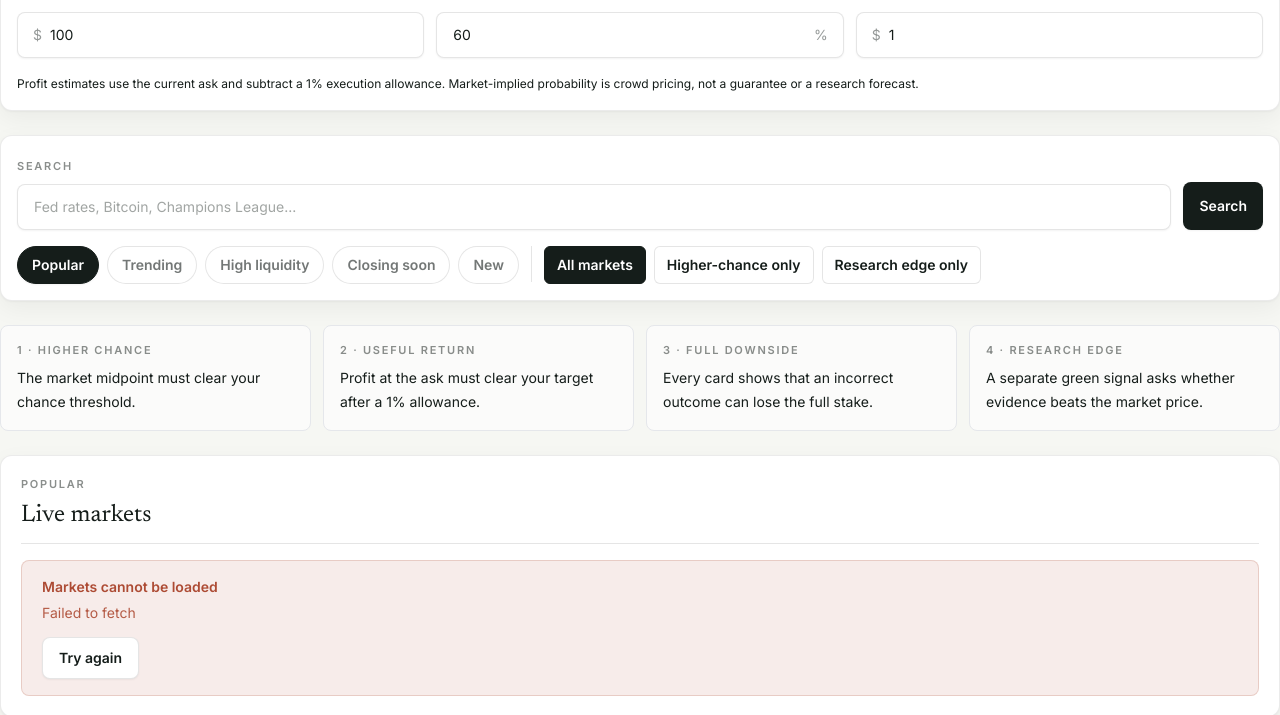
Test: MarketBrowserClient › shows a retryable error state, never the empty-state copy, when loading fails
(page scrolled)
Expected: the text "Markets cannot be loaded" is shown, [42,578,218,594]
Expected: the text "Failed to fetch" is shown, [42,604,136,620]
Click the button "Try again".
click(91, 658)  # box [42,636,139,678]
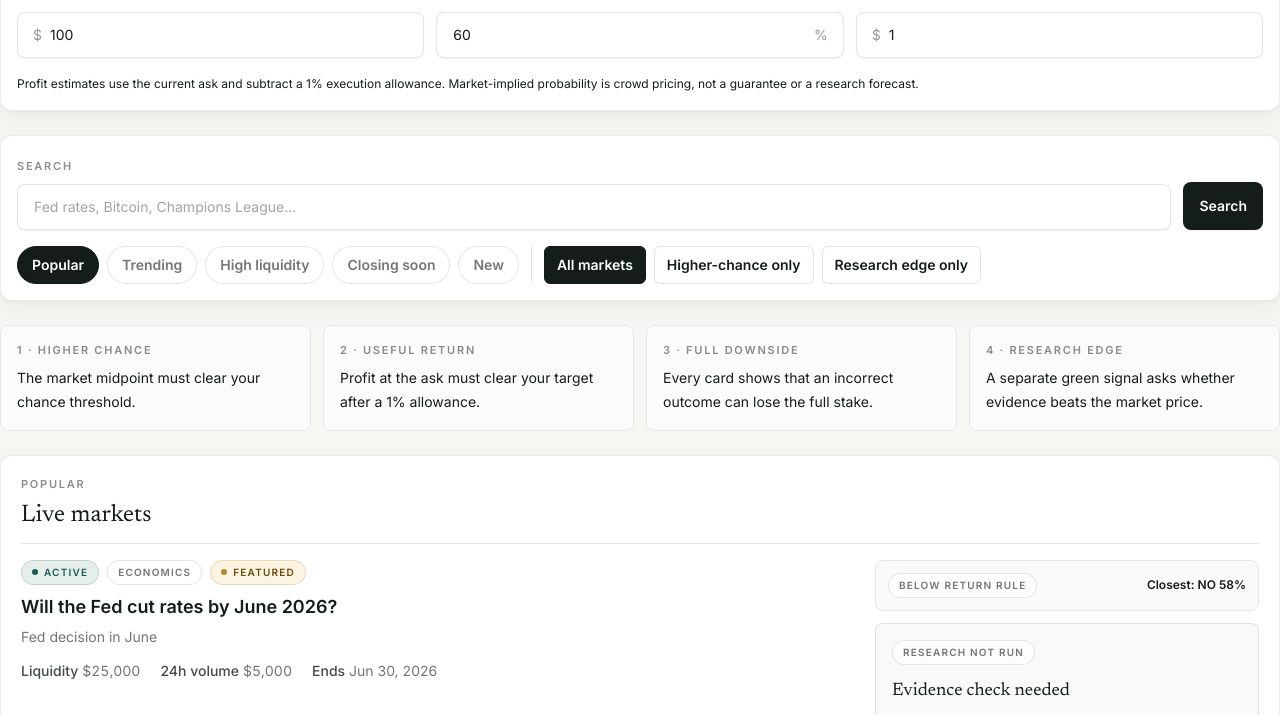
Expected: the link "Will the Fed cut rates by June 2026?" is shown, [21,596,337,616]
Expected: the text "Markets cannot be loaded" is gone
